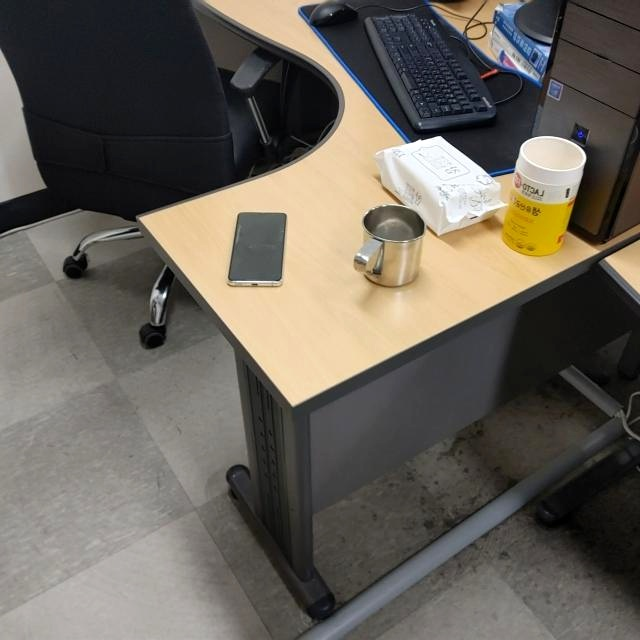cup: (350, 202, 426, 291)
phone: (226, 209, 290, 291)
